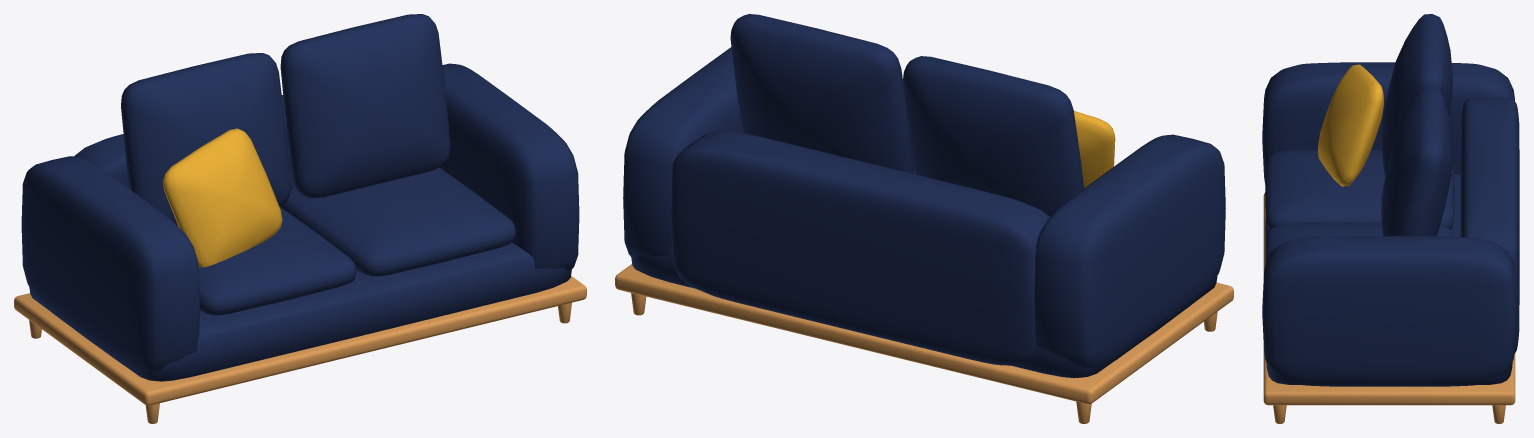
File: sofa_base_madeira_azul_marinho.glb
3 renders of one model, left to right at view 1: azimuth 30°, elevation 25°; view 2: azimuth 150°, elevation 25°; view 3: azimuth 270°, elevation 25°, orthographic. The views are drawn at different scales.
Visible parts, largest first — view 1: sofa_base_madeira_azul_marinho; view 2: sofa_base_madeira_azul_marinho; view 3: sofa_base_madeira_azul_marinho.
Part boxes in pixels (box(x1,y1,x2,y2)): sofa_base_madeira_azul_marinho: box(14, 14, 586, 423); sofa_base_madeira_azul_marinho: box(615, 14, 1233, 423); sofa_base_madeira_azul_marinho: box(1262, 14, 1519, 423).
Size of the model in its own units: 1.62 by 0.9311 by 0.87.
Materials: 1 (1 with a texture image).
